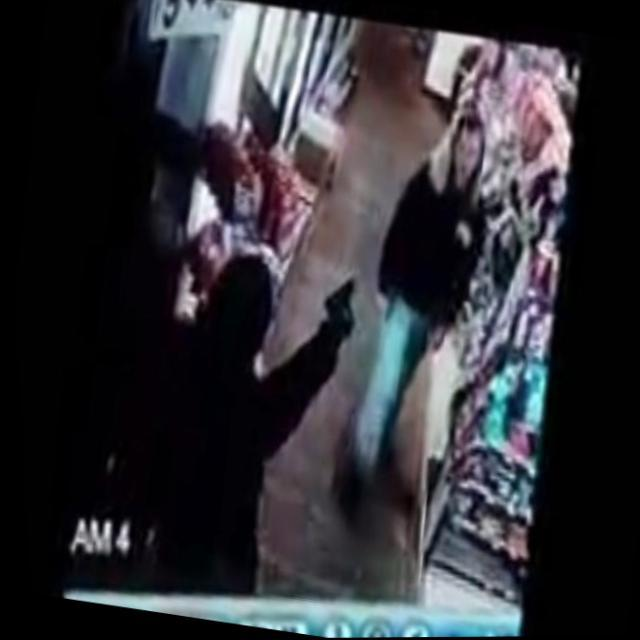weapon: (314, 267, 362, 342)
